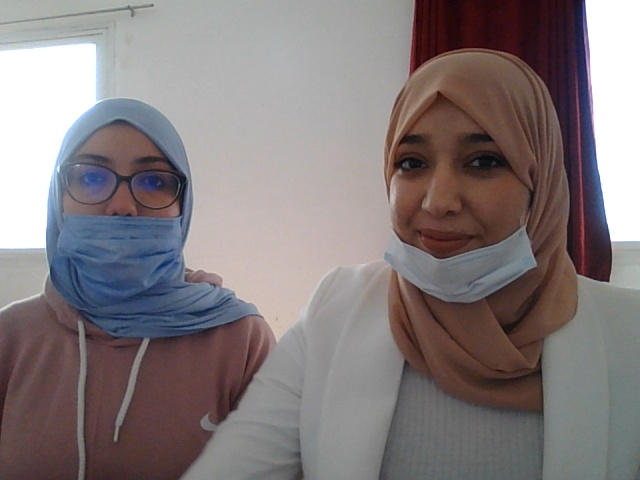mask_weared_incorrect: (374, 59, 563, 309), (41, 95, 193, 287)
